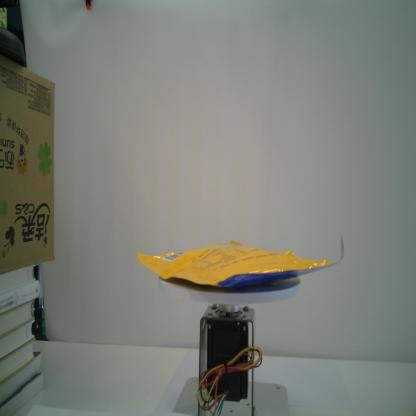Dried Fruit: (135, 232, 345, 288)
